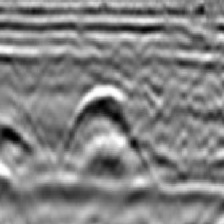cavities: (60, 84, 151, 179)
